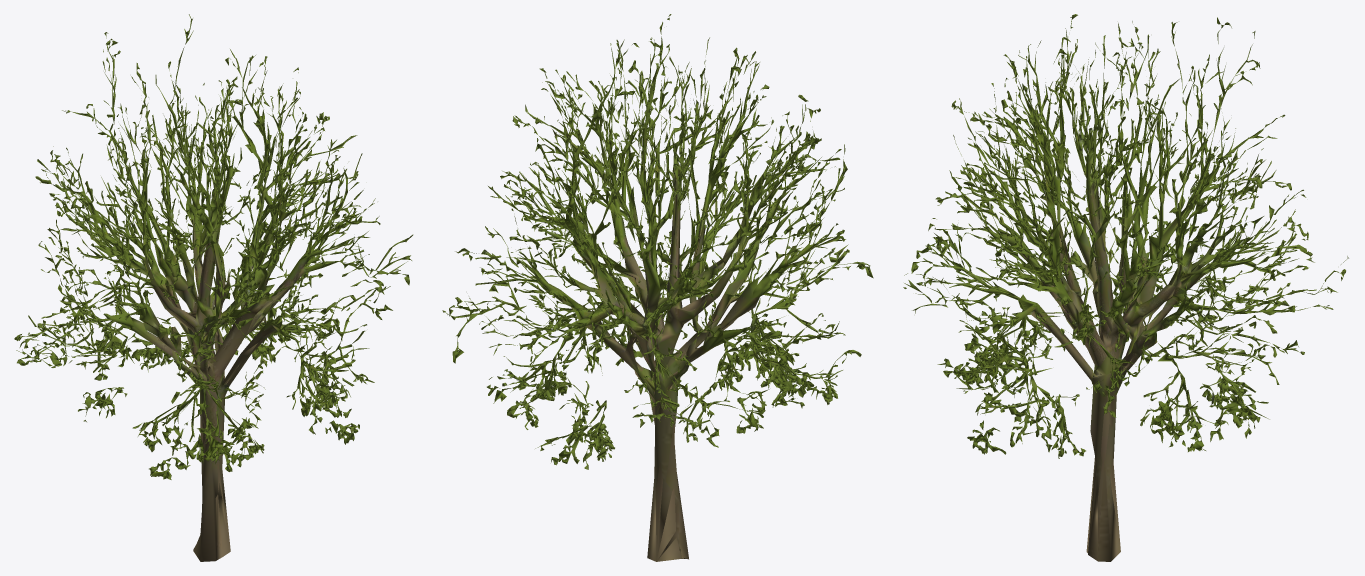
The model's file is autumn-tree.glb.
3 views of the same model, side by side, from view 1: azimuth 30°, elevation 25°; view 2: azimuth 150°, elevation 25°; view 3: azimuth 270°, elevation 25° (orthographic). The views are drawn at different scales.
Bounding box in the file's own units: 1.31 × 1.84 × 1.39.
Materials: 1 (1 with a texture image).
